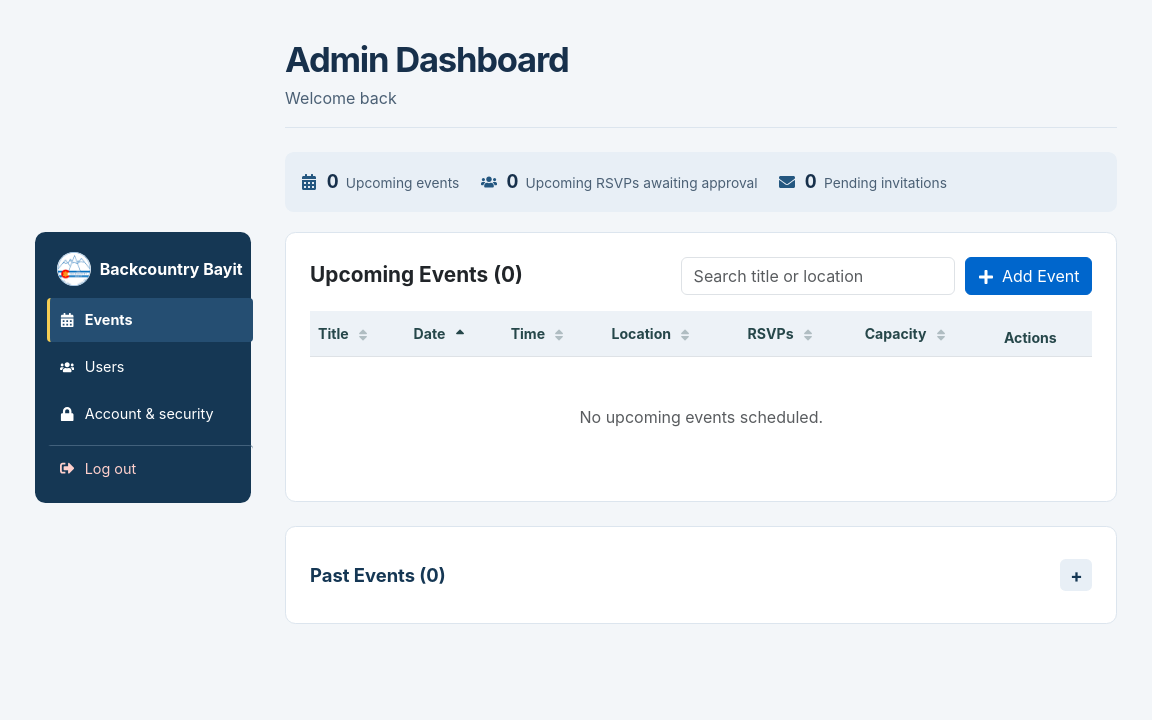
an empty archive opens and closes with an empty-state message
Step 1. Click the button "Past Events (0) +" → {"x": 368, "y": 575}, box x1=310 y1=551 x2=1092 y2=599
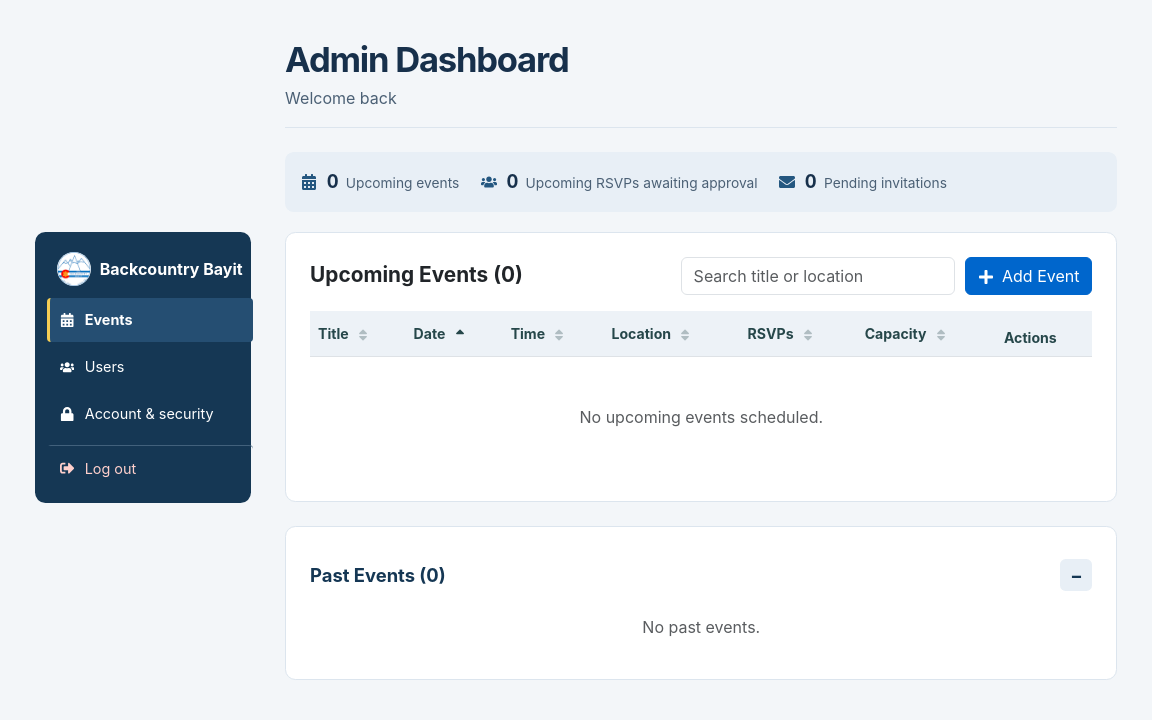
expect the text "No past events." is shown: met, box x1=642 y1=617 x2=760 y2=637
Step 2. Click the button "Past Events (0) −" → {"x": 368, "y": 575}, box x1=310 y1=551 x2=1092 y2=599
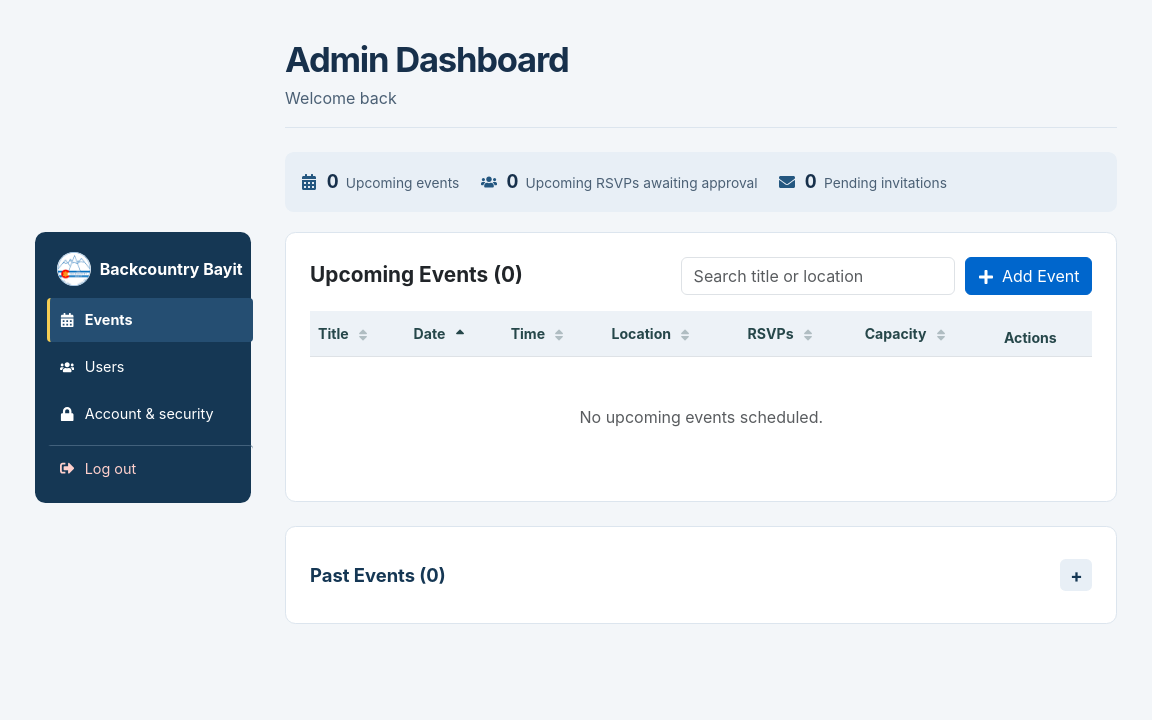
expect the text "No past events." is gone: met
